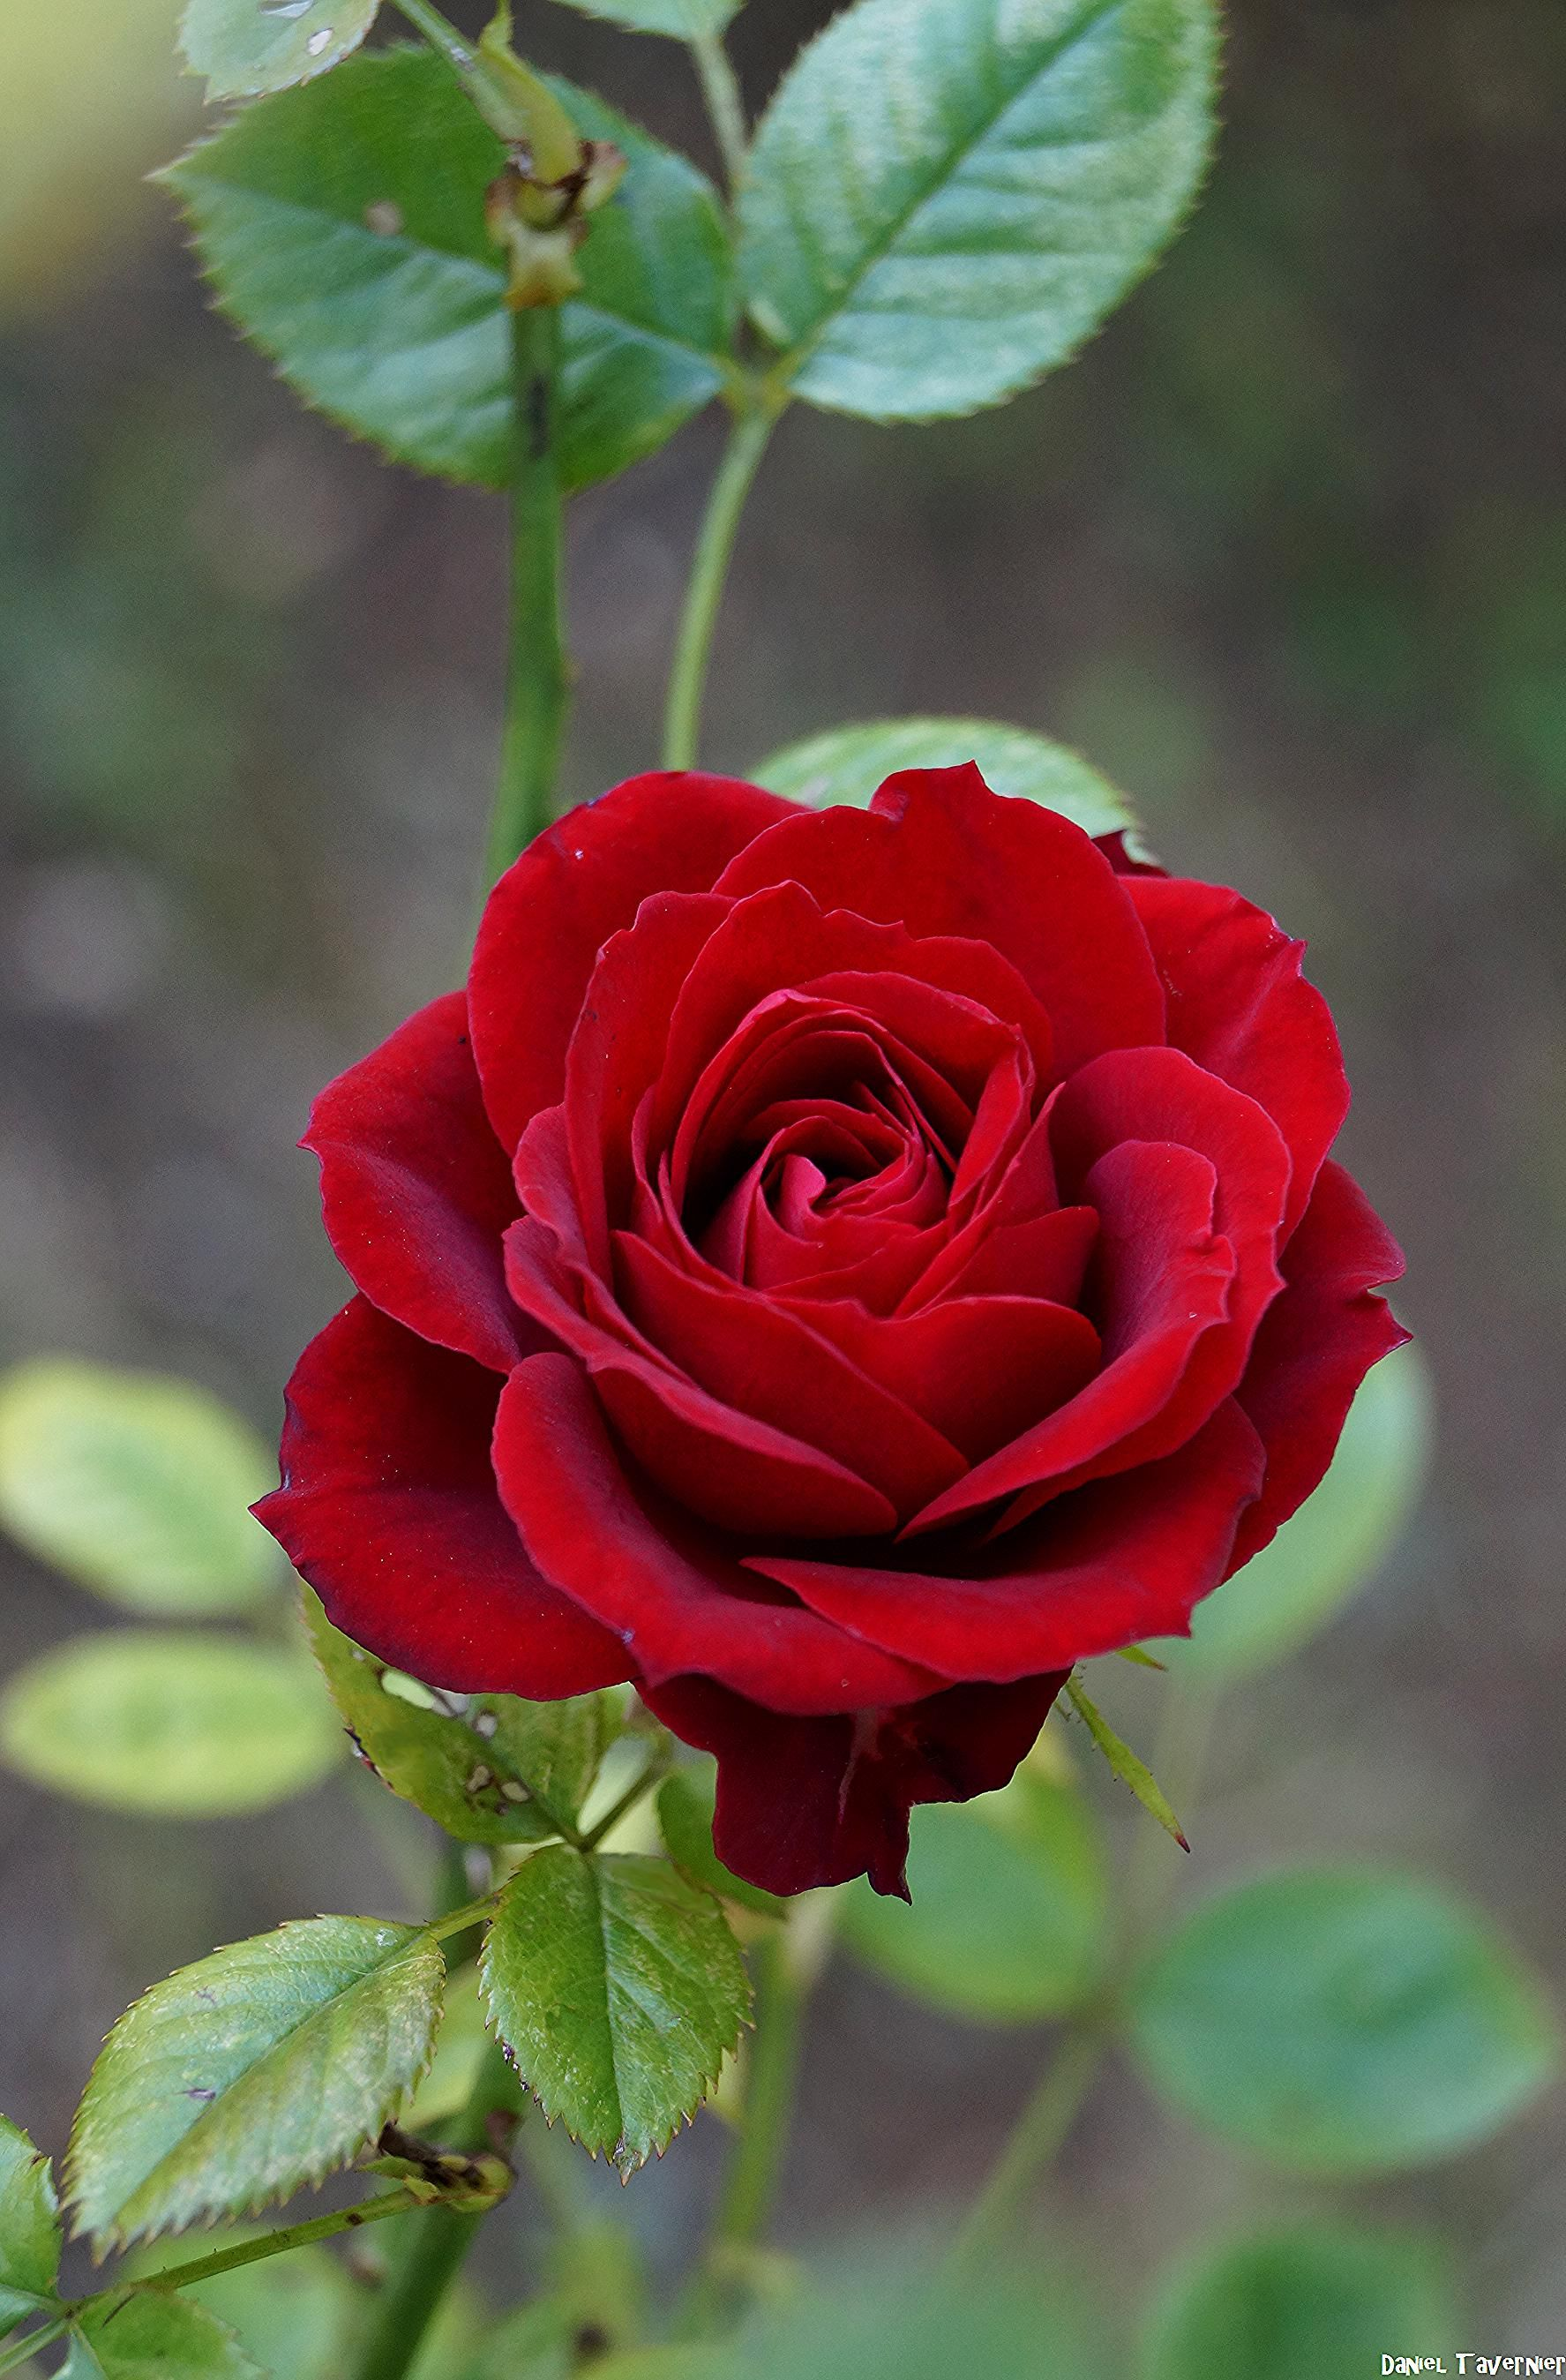rose: (173, 690, 1484, 1765)
